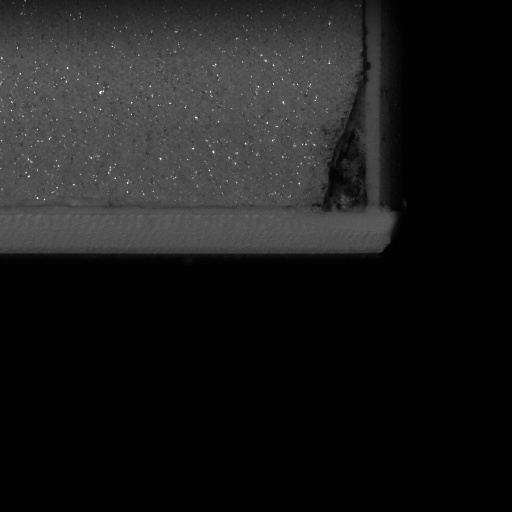bengque: (315, 75, 375, 216)
